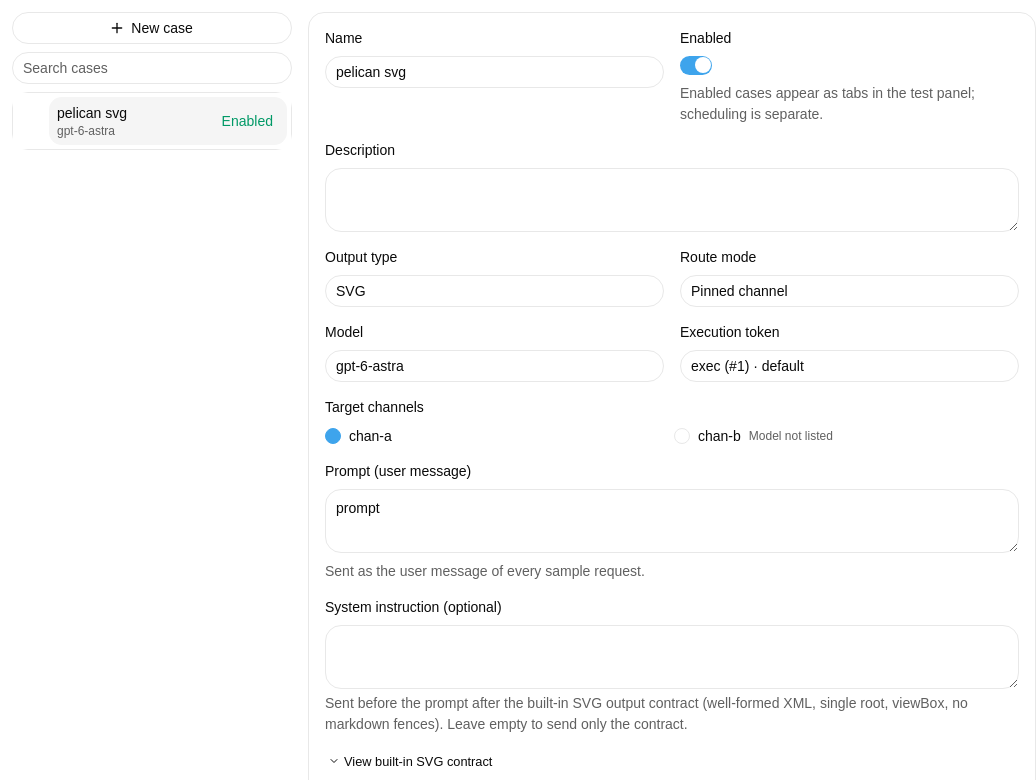
Scenario: CaseManager › switching mode to normal routing removes the channel checkbox area
expect the text "chan-a" is shown: met, box [349,426,392,446]
Select "Normal routing" in the dropdown labelled "Route mode" at {"x": 850, "y": 291}, box [680,275,1019,307]
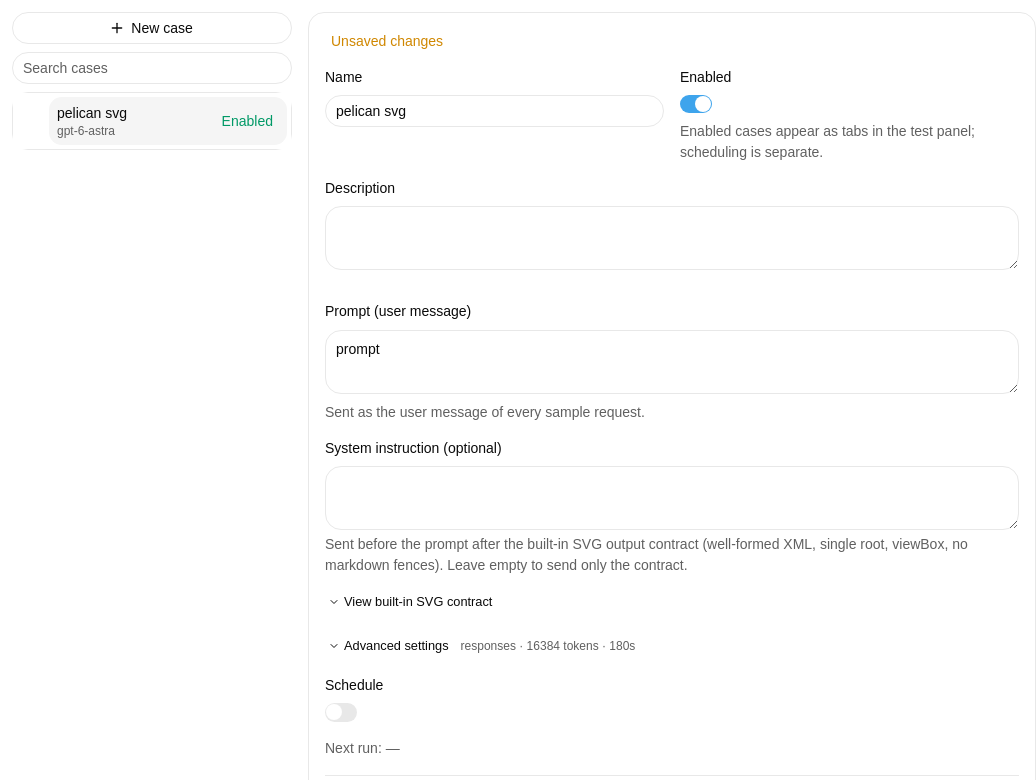
expect the text "Target channels" is gone: met
